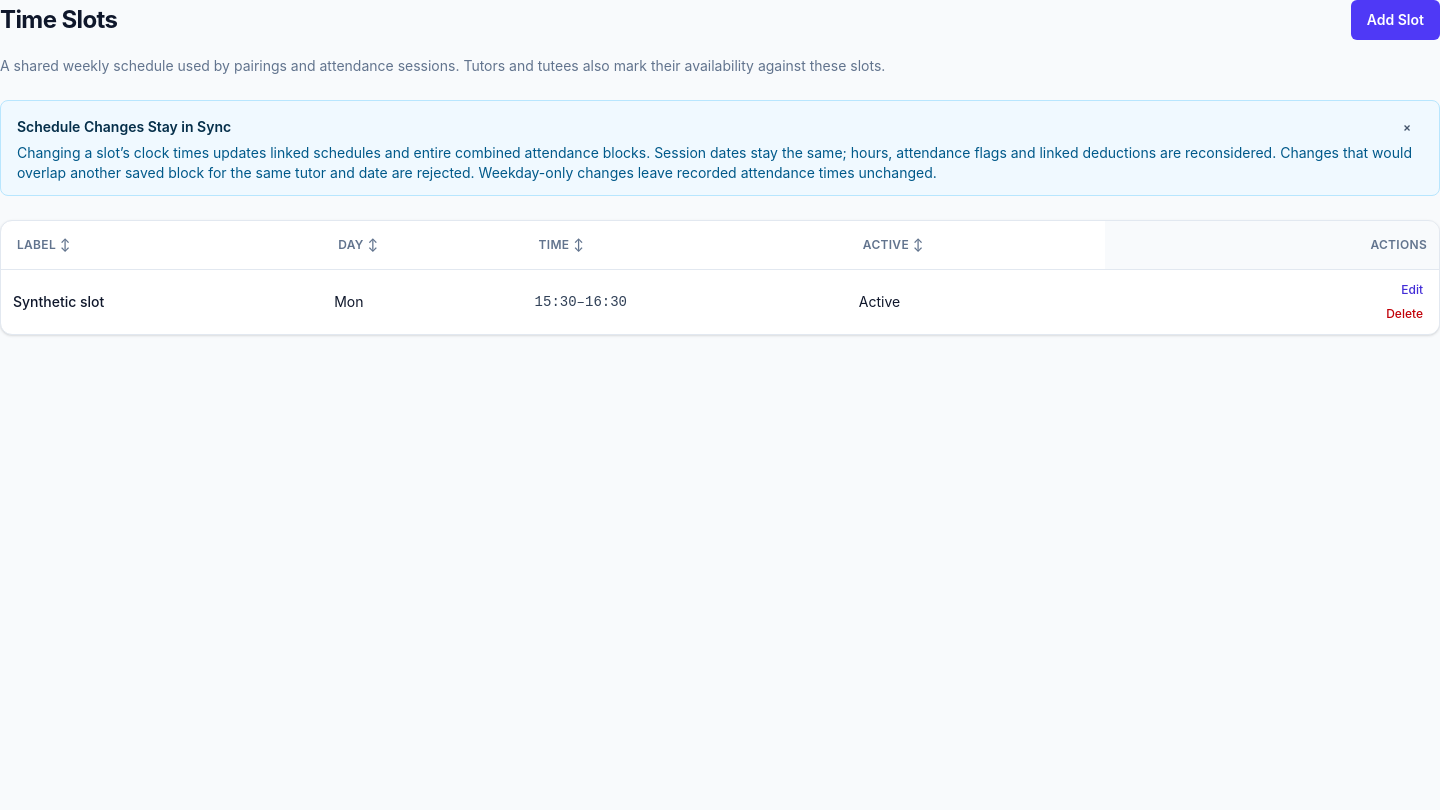
it: keeps a new slot draft after dismissing and reopening creation
Click the button "Add Slot": (1395, 20) [1351,0,1439,40]
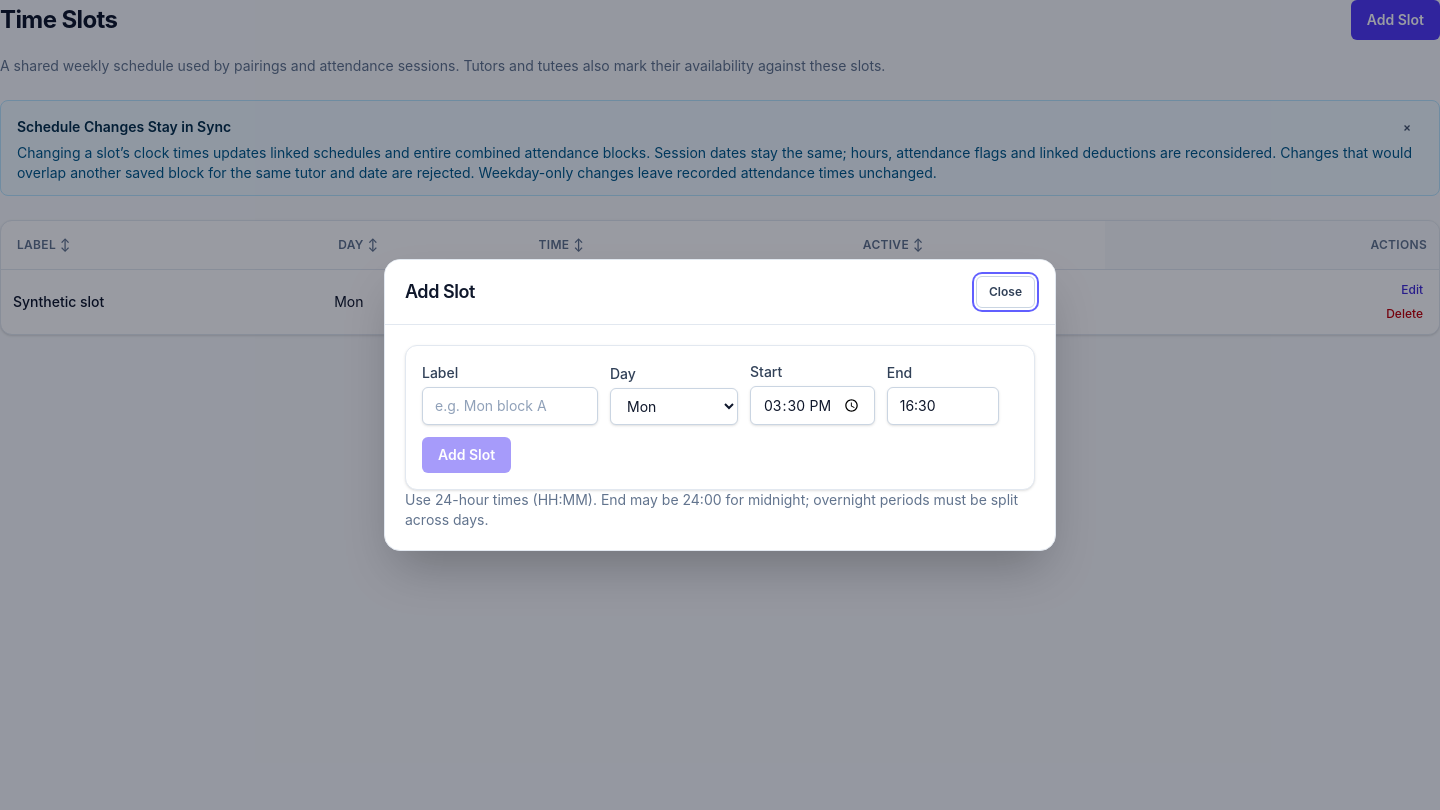
In the field labelled "Label": (510, 406) [422,387,598,425], type "Synthetic draft slot"
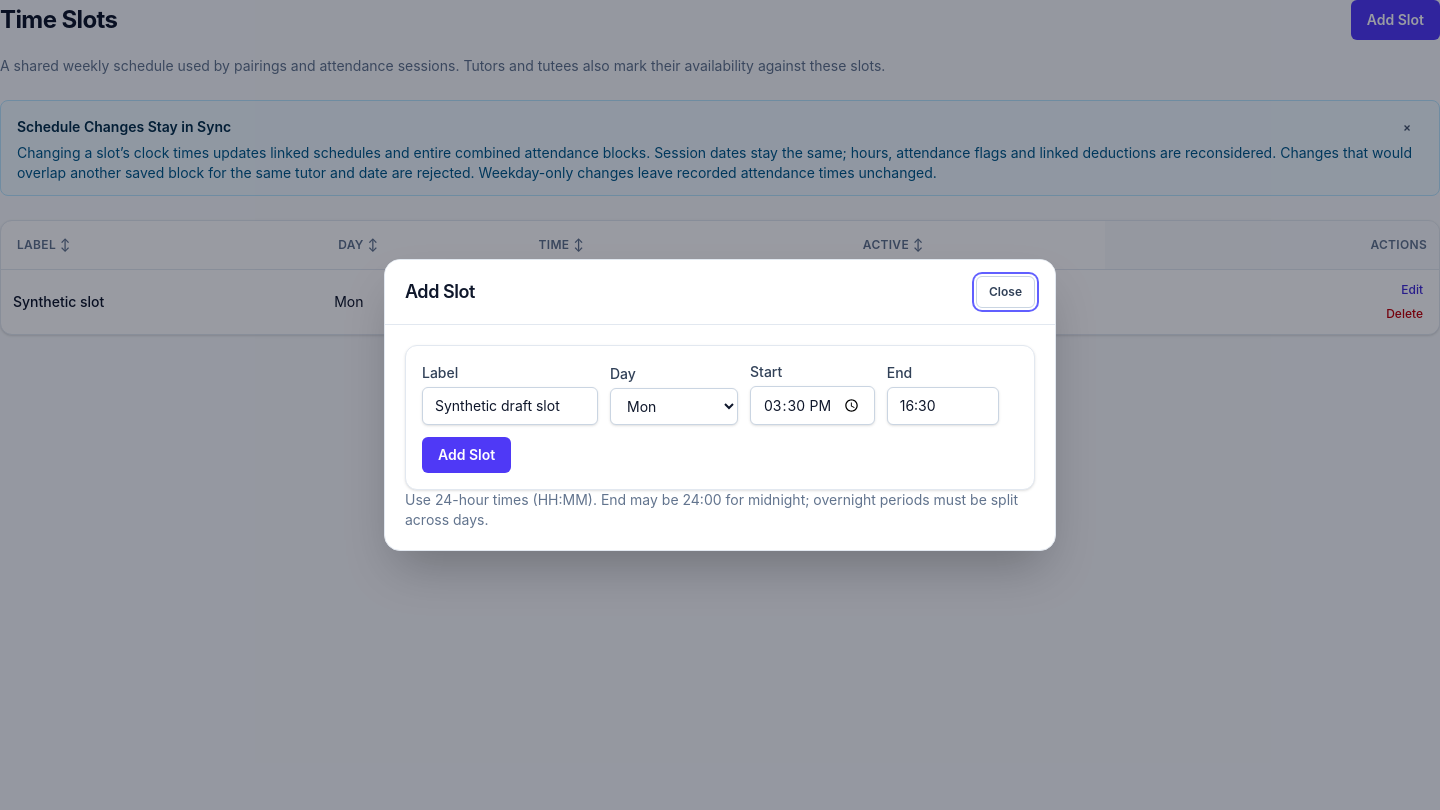
Click the button "Close": (1006, 292) [976,276,1035,308]
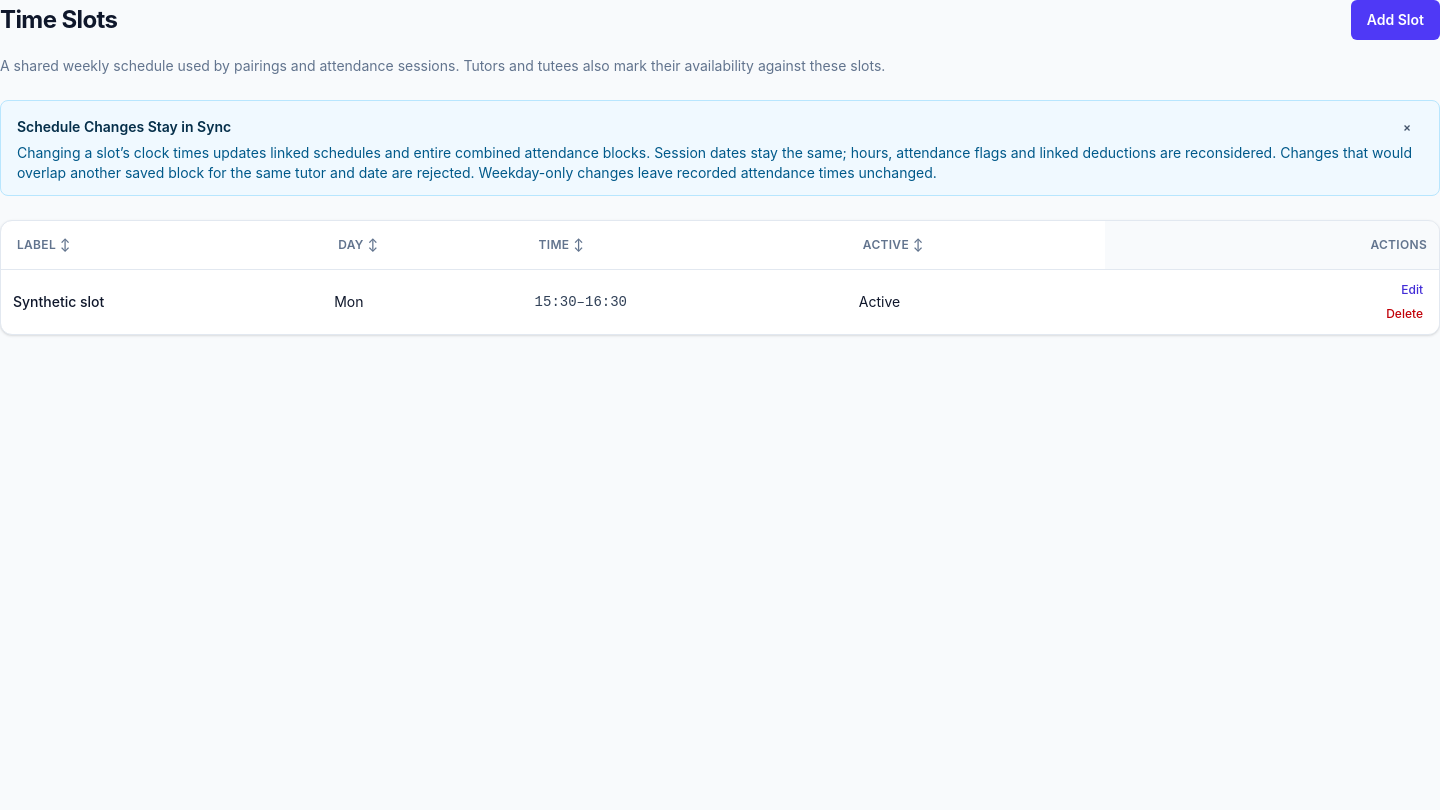
Result: the field is gone
Click the button "Edit": (1405, 290) [1383,278,1427,302]
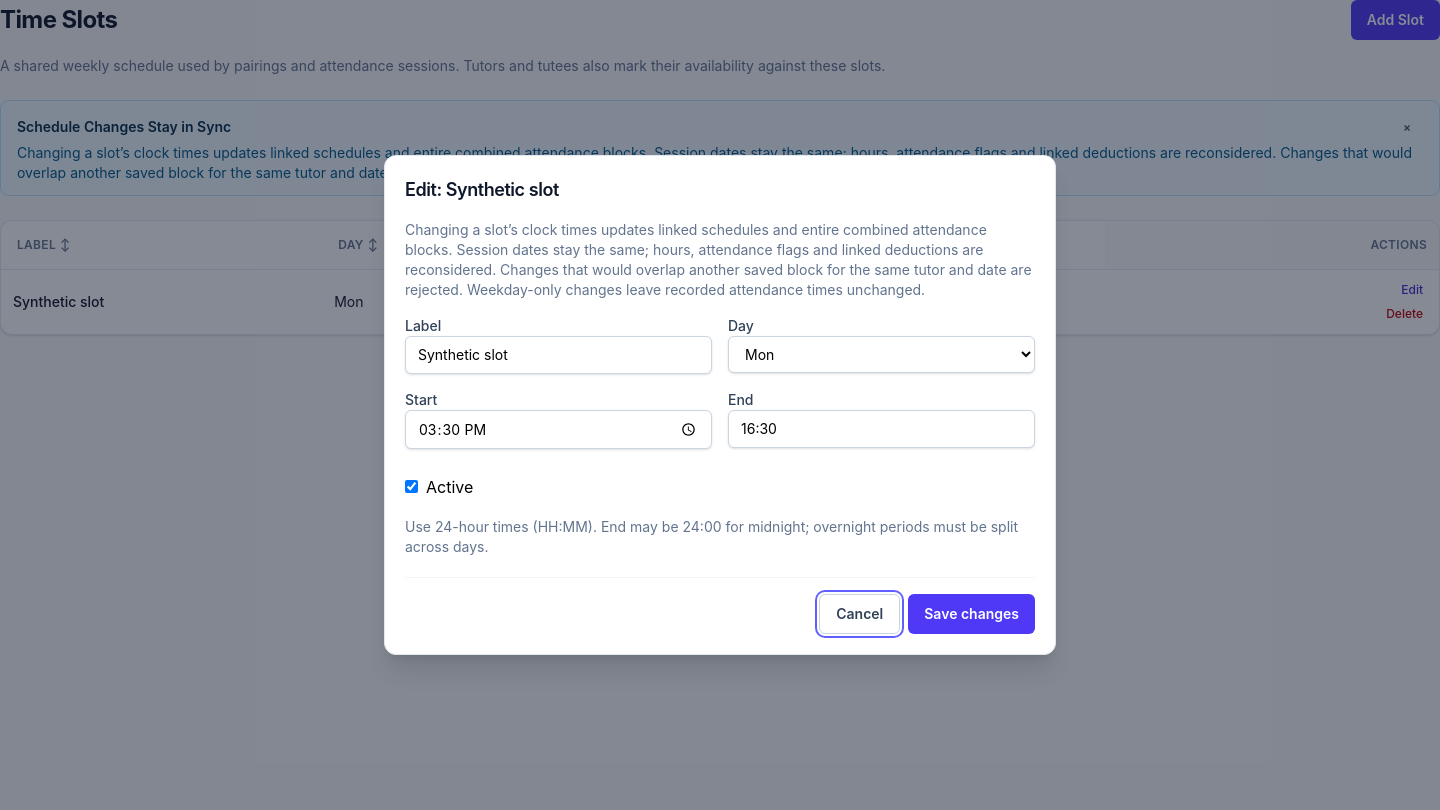
Result: the field labelled "Label" holds "Synthetic slot" at [405,336,712,374]
Click the button "Cancel": (860, 614) [819,594,900,634]
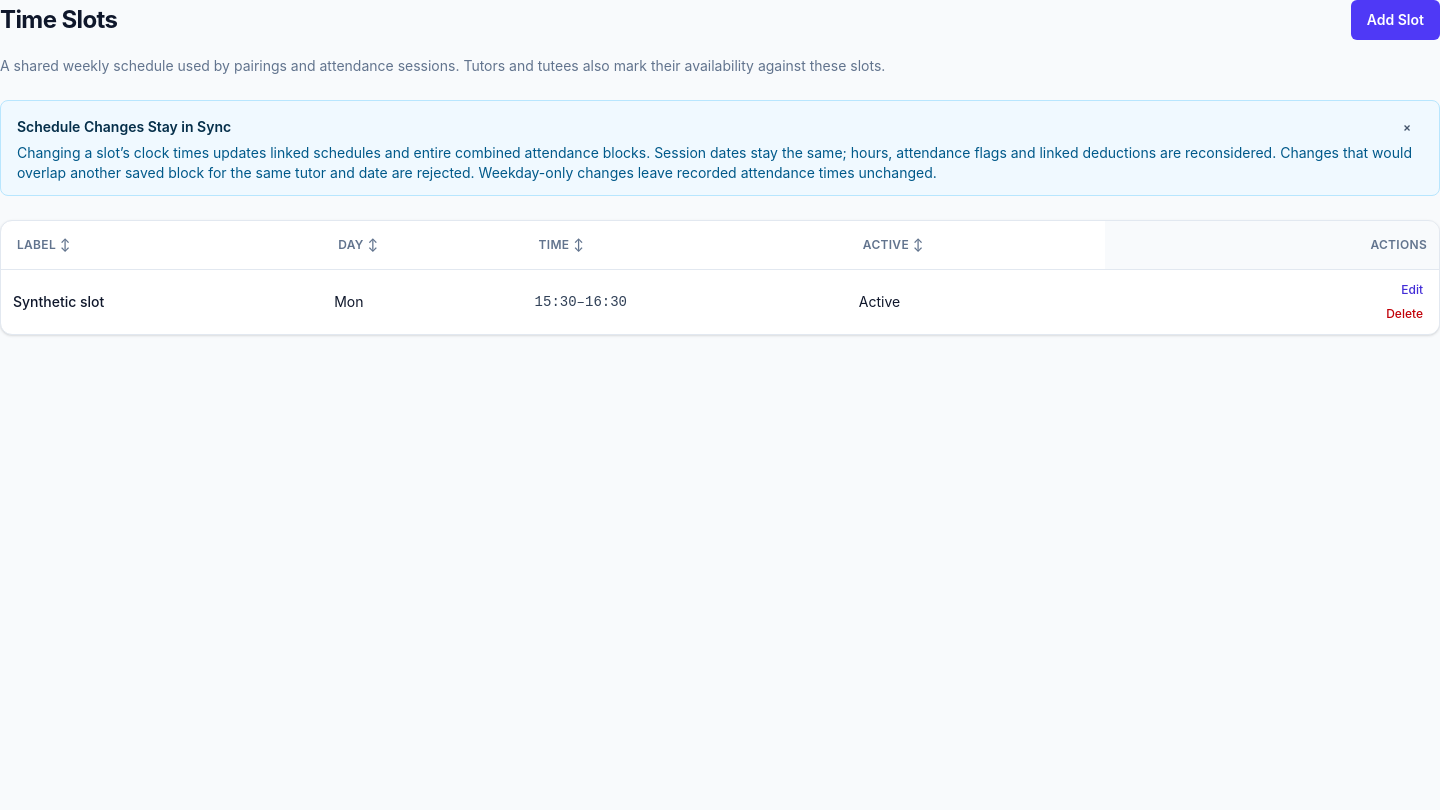
Click the button "Add Slot": (1395, 20) [1351,0,1439,40]
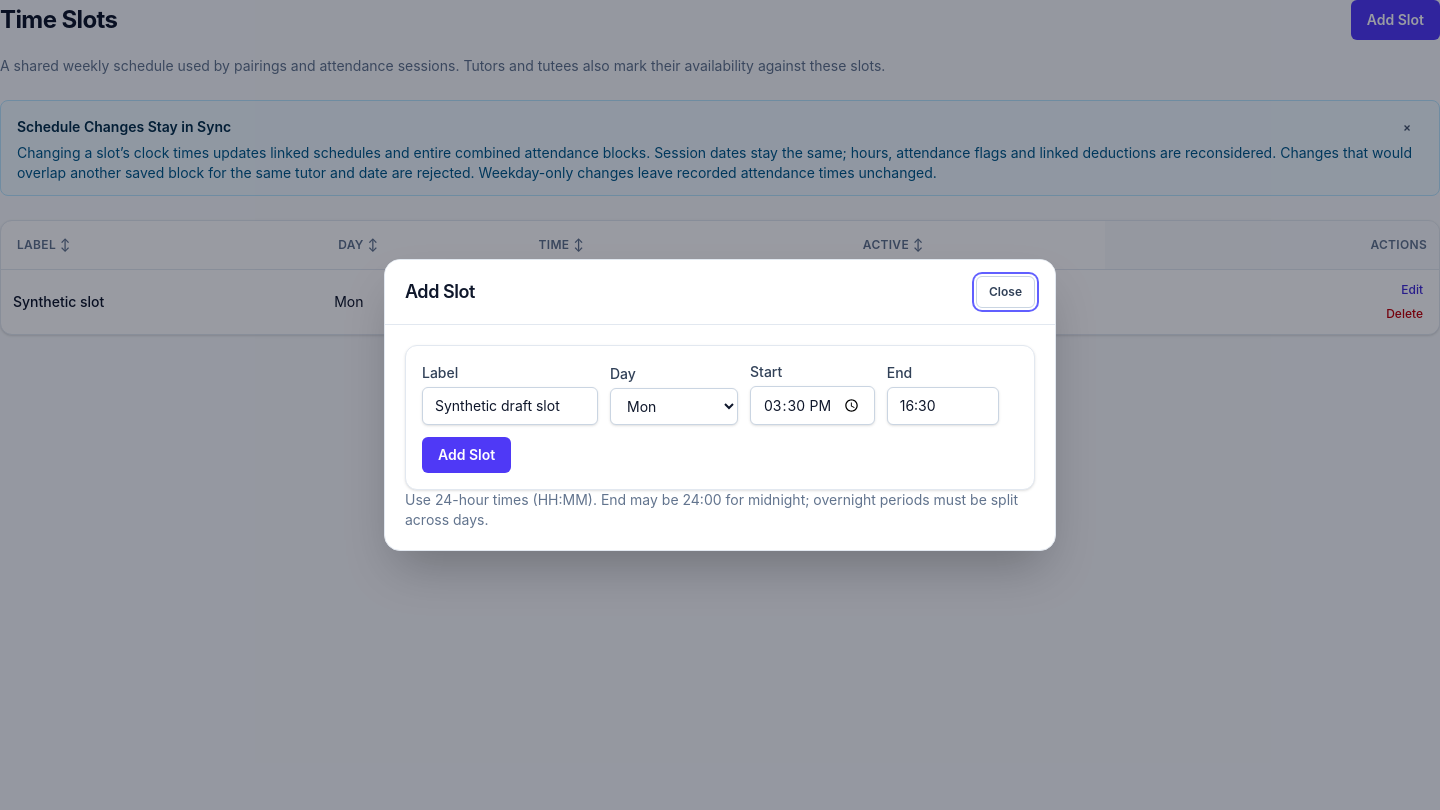
Result: the field labelled "Label" holds "Synthetic draft slot" at [422,387,598,425]
